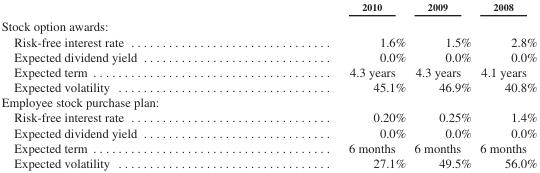table: (0, 0, 536, 169)
table column: (0, 0, 242, 169), (242, 0, 409, 169), (409, 0, 475, 169), (475, 0, 536, 169)
table column header: (0, 0, 536, 15)
table projected row header: (0, 15, 536, 33), (0, 94, 536, 109)
table row: (0, 15, 536, 33), (0, 48, 536, 64), (0, 0, 536, 15), (0, 33, 536, 48), (0, 64, 536, 79), (0, 79, 536, 94), (0, 94, 536, 109), (0, 109, 536, 124), (0, 124, 536, 139), (0, 139, 536, 154), (0, 154, 536, 169)
